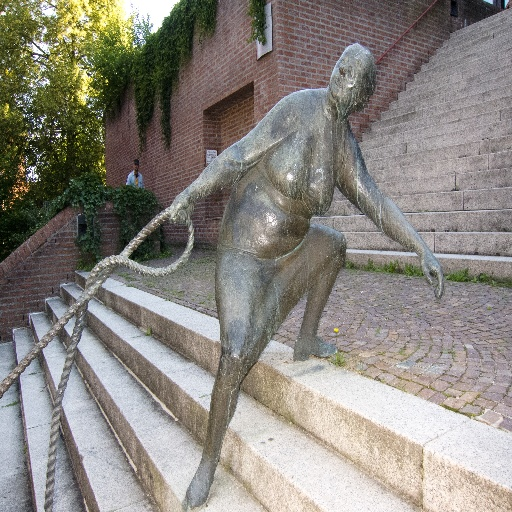hand: (418, 254, 444, 297), (169, 188, 194, 226)
